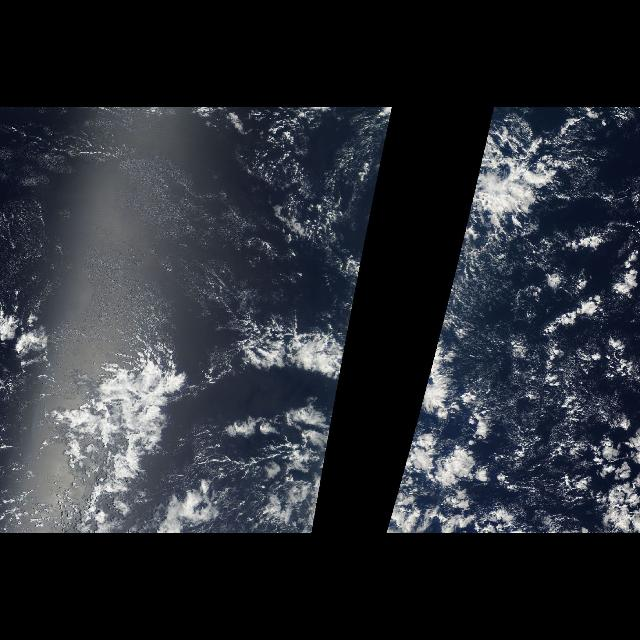Fish: (208, 327, 349, 418), (418, 327, 460, 418)
Sugar: (2, 110, 290, 374), (464, 338, 636, 410)
